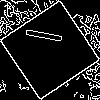I: (25, 25, 72, 47)
